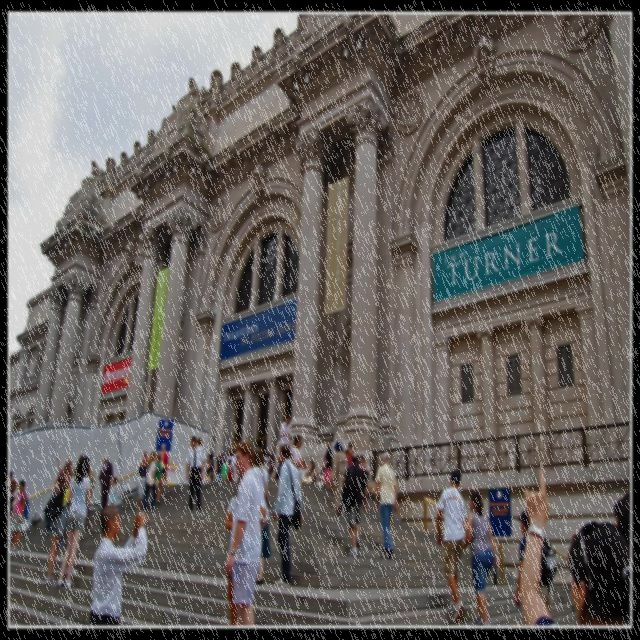pessoa: (516, 466, 640, 640), (88, 503, 150, 627), (224, 439, 264, 626), (435, 468, 468, 624), (462, 490, 499, 628), (513, 509, 559, 617), (270, 441, 304, 586), (42, 483, 80, 588), (42, 468, 74, 586), (338, 452, 368, 559), (372, 449, 400, 561), (252, 446, 272, 586), (225, 476, 242, 628), (50, 454, 74, 536), (184, 434, 207, 514), (8, 478, 32, 551), (330, 438, 350, 518), (140, 449, 160, 512), (612, 484, 632, 534), (98, 452, 114, 514), (135, 448, 150, 512), (289, 432, 305, 490), (189, 436, 204, 496), (156, 442, 170, 502), (322, 440, 334, 490), (279, 412, 295, 447), (106, 474, 120, 512), (342, 448, 352, 500), (85, 456, 96, 502), (154, 453, 163, 503), (230, 444, 240, 486), (10, 478, 18, 522), (316, 463, 330, 488), (358, 458, 371, 482), (59, 466, 72, 490), (206, 450, 216, 480), (216, 452, 225, 485), (344, 444, 356, 468), (220, 456, 230, 484), (63, 464, 73, 490), (226, 456, 234, 486), (263, 450, 270, 480), (307, 460, 316, 480), (300, 460, 308, 482), (274, 454, 280, 478), (44, 519, 52, 536), (8, 470, 12, 484), (215, 454, 220, 462), (348, 441, 353, 447), (356, 452, 360, 458), (227, 450, 230, 456)
